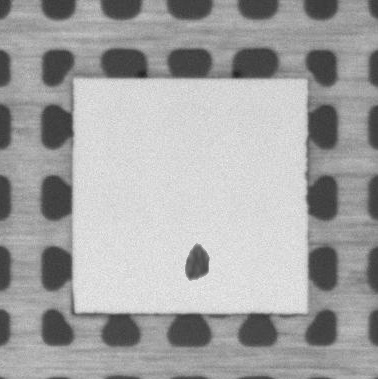DIE_INK: (183, 240, 211, 286)
